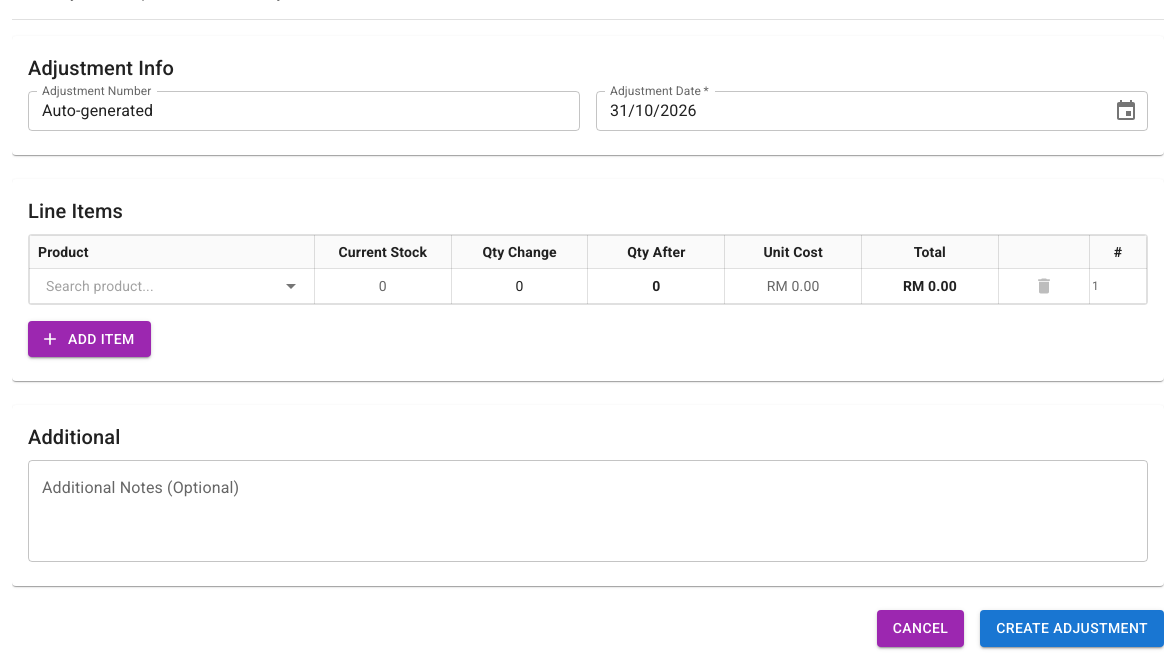
Test: CreateStockAdjustmentPage › negative stock block › disables Save when a row would drive stock below zero
This screenshot has width=1176, height=670.
Click the dropdown with placeholder "Search product...": [156, 286] box [38, 274, 273, 298]
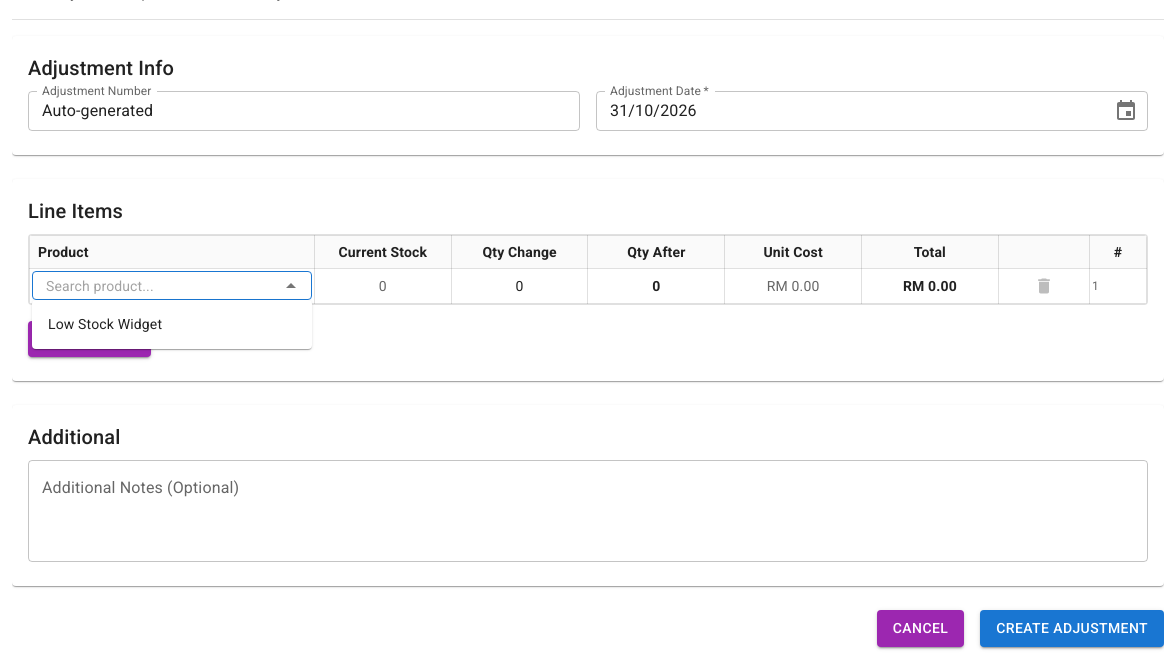
Click the option "Low Stock Widget": [105, 324] box [48, 316, 162, 332]
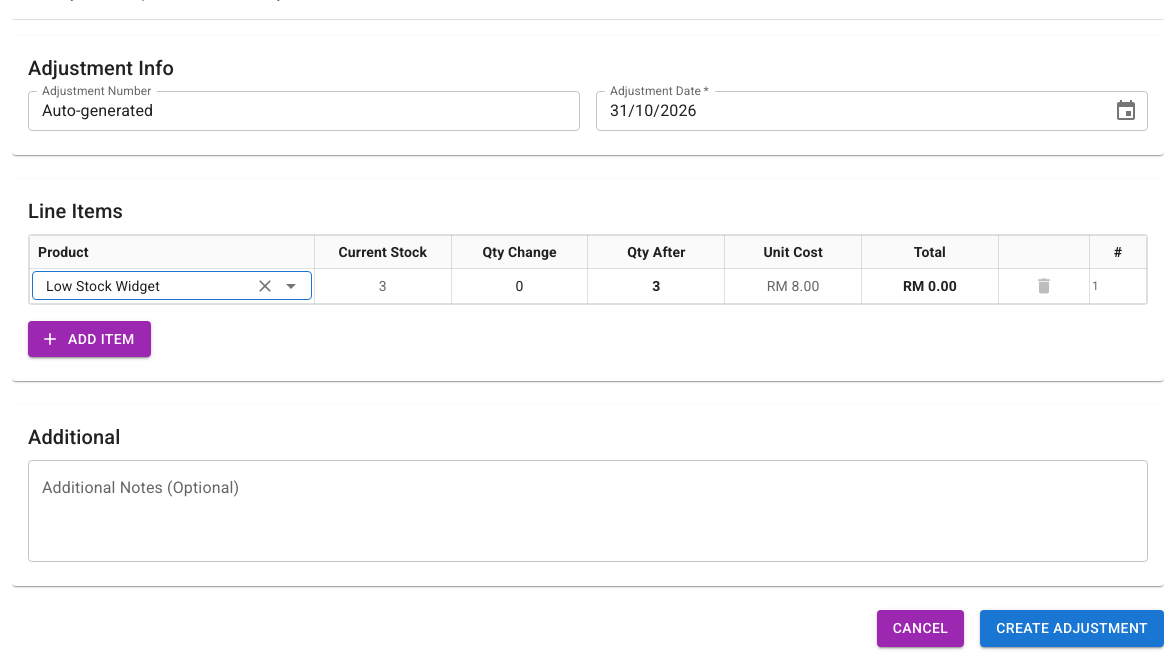
Now the dropdown with placeholder "Search product..." holds "Low Stock Widget", box [38, 274, 247, 298]
Replace the text in the field with test id "items.0.difference" with "-5": [520, 286] box [454, 274, 586, 298]
(page scrolled)
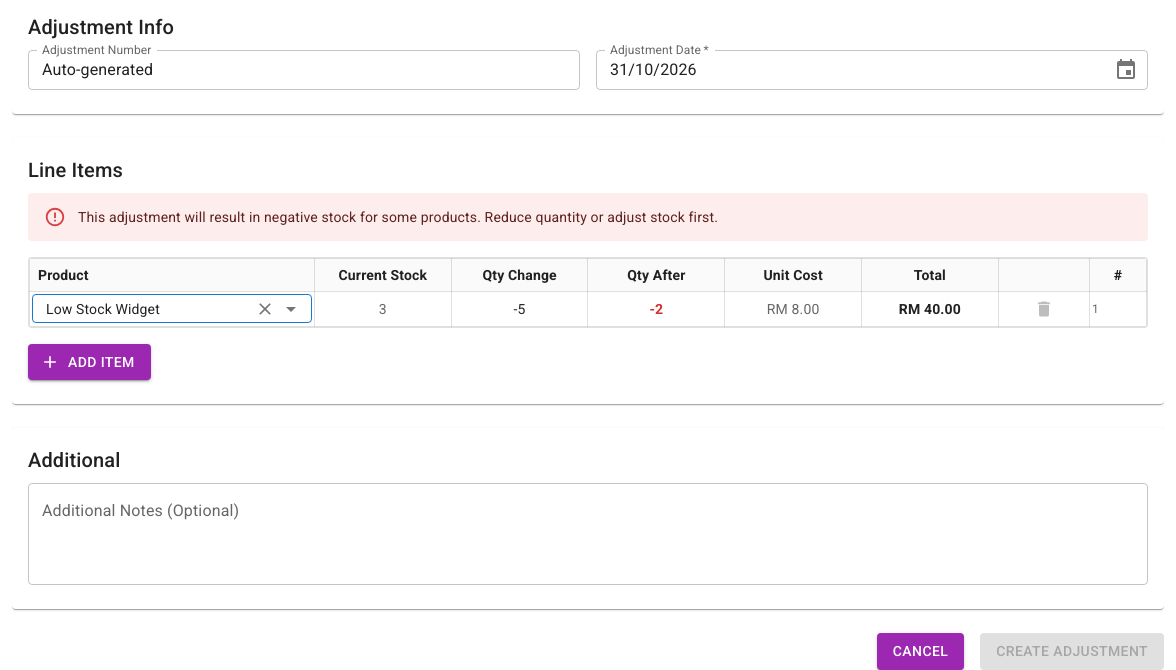
Now the text "negative stock" is shown, box [78, 209, 718, 225]
Now the button "Create Adjustment" is disabled, box [980, 633, 1164, 669]
